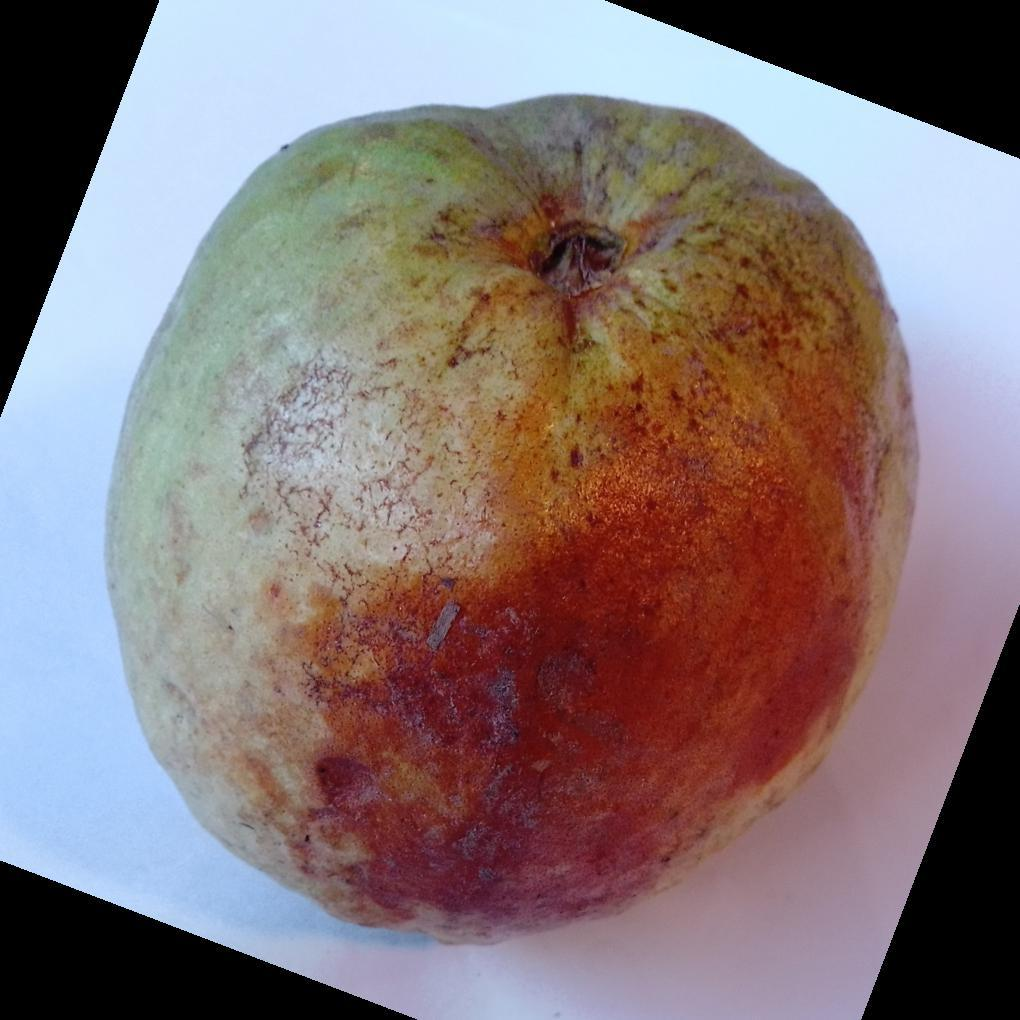FreshOrange: (101, 95, 921, 950)
